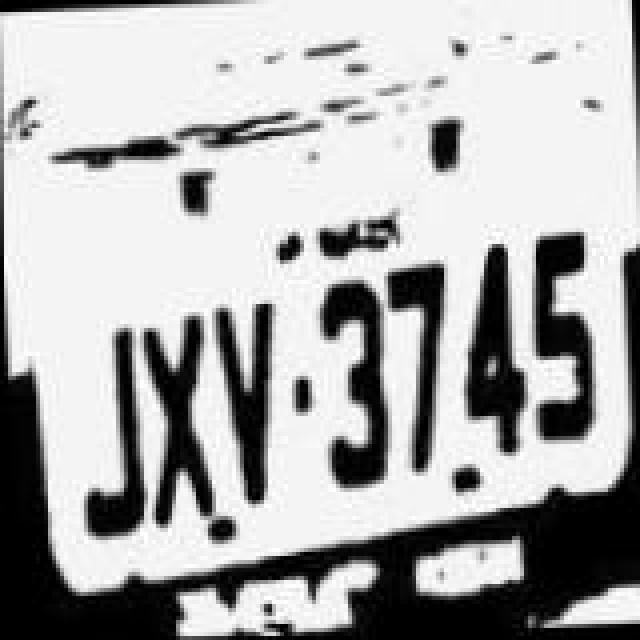3: (310, 274, 390, 494)
4: (454, 234, 534, 462)
5: (512, 210, 600, 450)
7: (380, 254, 456, 474)
J: (64, 312, 144, 540)
V: (206, 290, 286, 502)
X: (136, 310, 216, 530)
